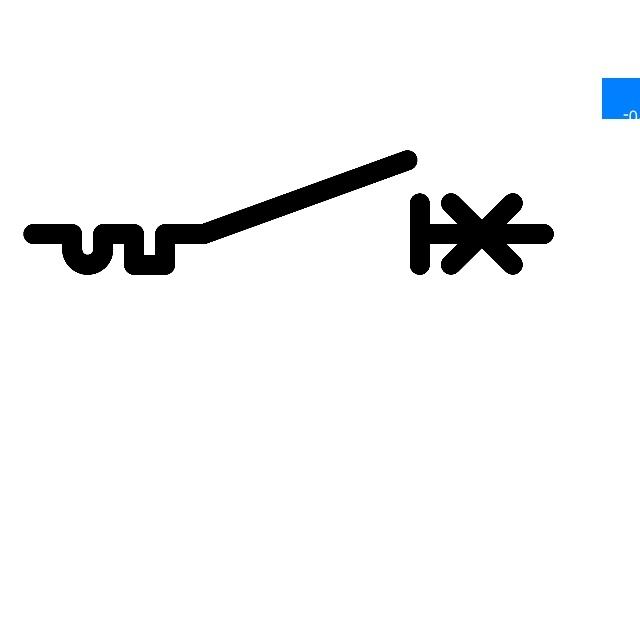interruptor_termomagnetico: (20, 147, 556, 278)
